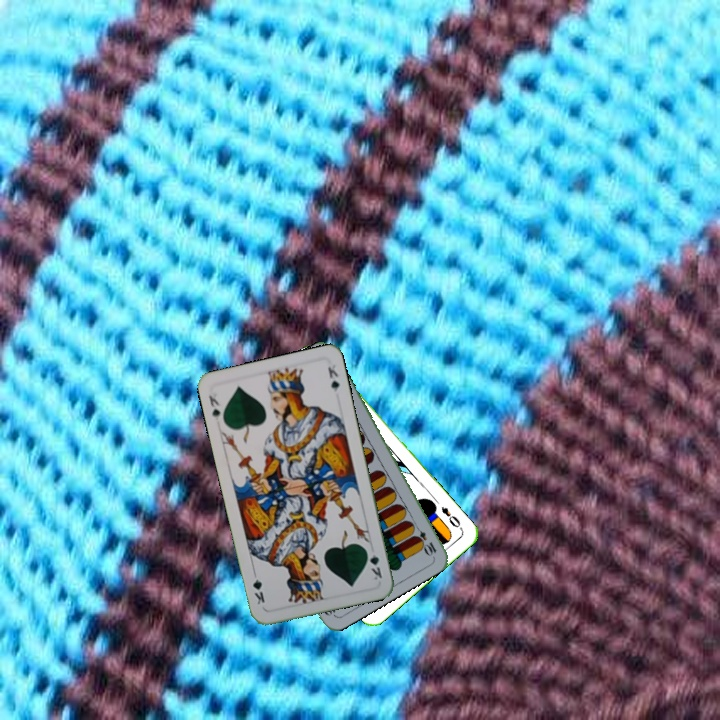E10: (410, 520, 439, 558)
EO: (437, 502, 463, 530)
GK: (362, 545, 385, 583), (205, 391, 223, 423)
